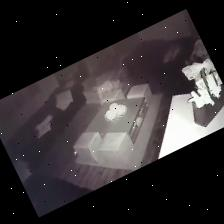person: (93, 80, 130, 99)
